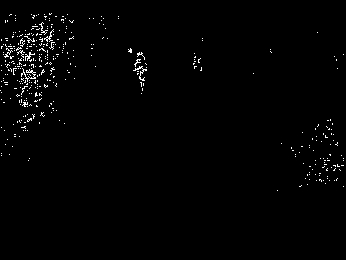person: (134, 48, 149, 95)
